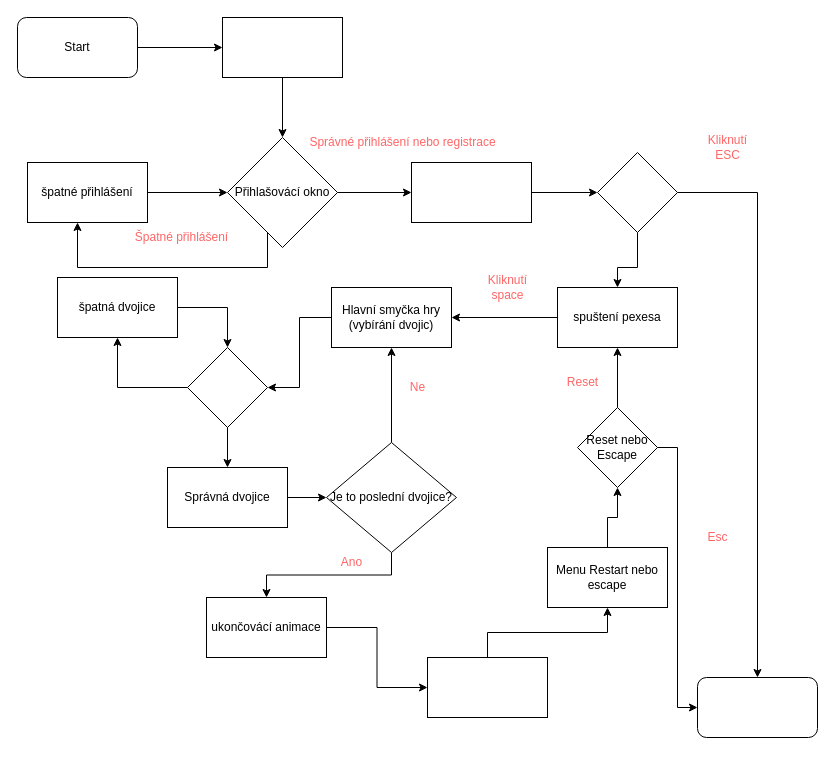
This 835x763 diagram has some shape labels left out. Each missing label, with the centre of its shape:
"Inicializace pygame" goes at point 282,47.
"menu pexeso" goes at point 471,192.
"Ukončit program (end)" goes at point 757,707.
"uložení skore do DB" goes at point 487,687.
"Vybírání dvojic" goes at point 227,387.
"úvodní stránka" goes at point 637,192.
